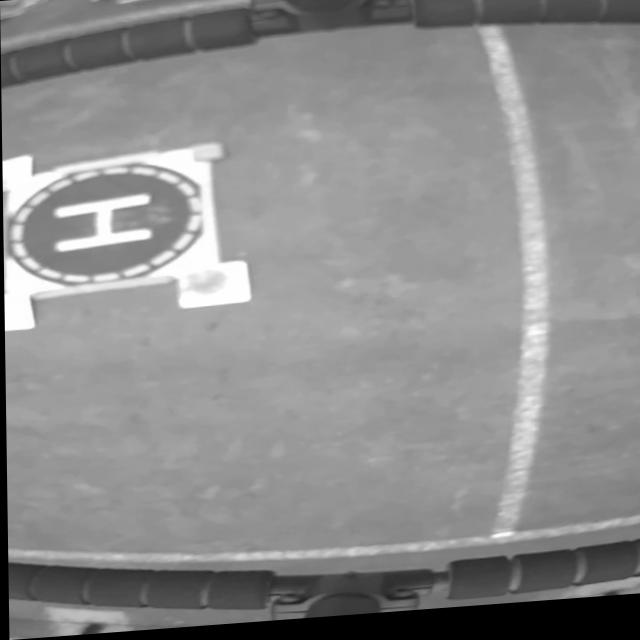Helipad: (49, 192, 155, 254)
